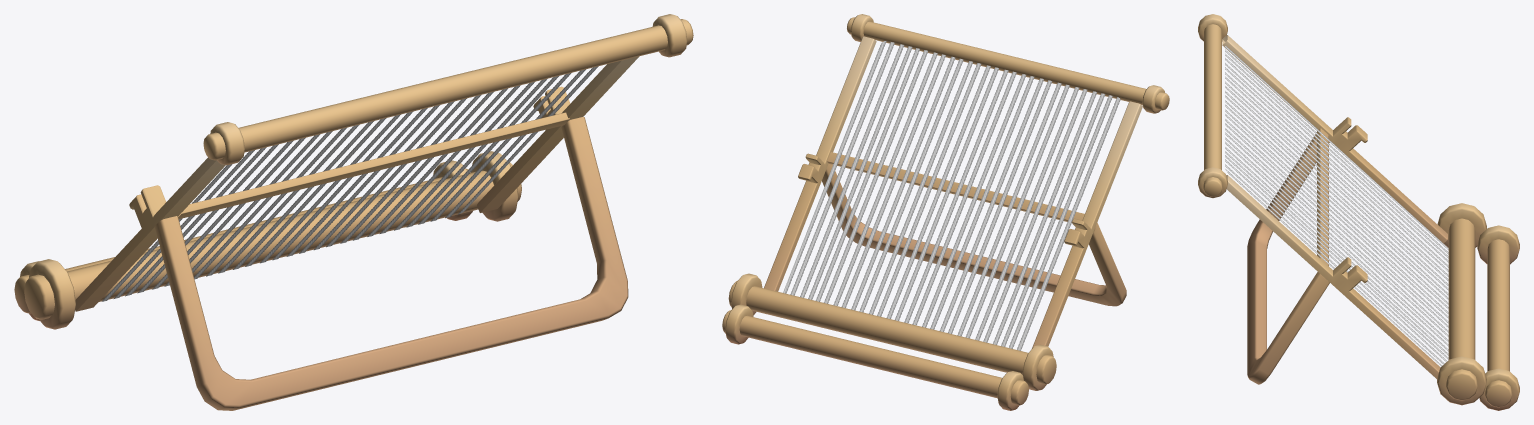
The model's file is WeavingMachine.fbx.
3 renders of one model, left to right at view 1: azimuth 30°, elevation 25°; view 2: azimuth 150°, elevation 25°; view 3: azimuth 270°, elevation 25°, orthographic. The views are drawn at different scales.
Parts seen in each view (by area): view 1: WeavingMachine, Fiber; view 2: WeavingMachine, Fiber; view 3: WeavingMachine, Fiber.
Boxes of the visible parts, left/top/right/bottom form: WeavingMachine: left=14, top=14, right=693, bottom=410; Fiber: left=102, top=66, right=598, bottom=301; WeavingMachine: left=722, top=14, right=1169, bottom=410; Fiber: left=783, top=41, right=1120, bottom=350; WeavingMachine: left=1198, top=14, right=1519, bottom=410; Fiber: left=1225, top=46, right=1448, bottom=366.
Size of the model in its own units: 8.52 by 5.87 by 6.99.
